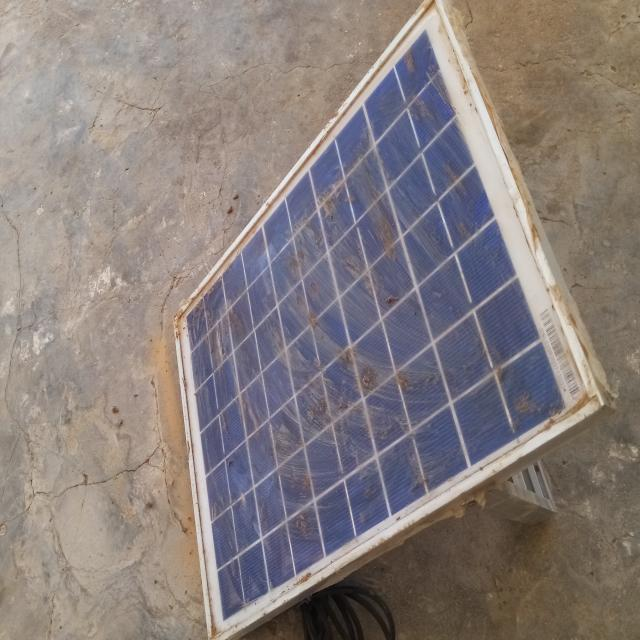faulty: (175, 0, 606, 640)
